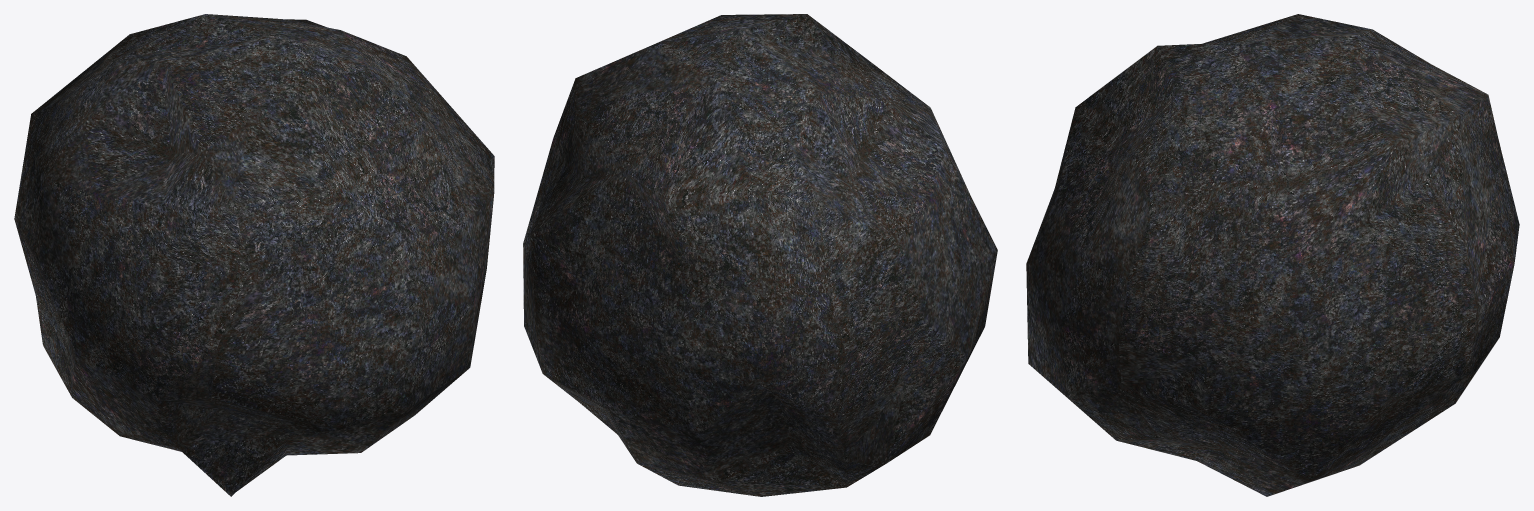
The model's file is asteroid_metal_radial_s03_l0.fbx.
3 renders of one model, left to right at view 1: azimuth 30°, elevation 25°; view 2: azimuth 150°, elevation 25°; view 3: azimuth 270°, elevation 25°, orthographic. The views are drawn at different scales.
Parts seen in each view (by area): view 1: mesh_node; view 2: mesh_node; view 3: mesh_node.
Part boxes in pixels (left/top/right/bottom): mesh_node: left=14, top=14, right=494, bottom=496; mesh_node: left=523, top=14, right=997, bottom=496; mesh_node: left=1026, top=14, right=1519, bottom=496.
Size of the model in its own units: 5.09 by 4.99 by 5.22.
